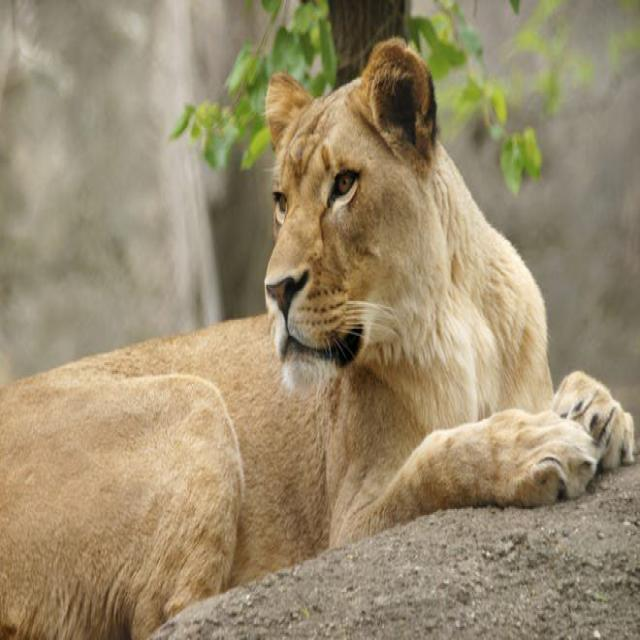Lion: (0, 34, 635, 638), (262, 34, 635, 492)
